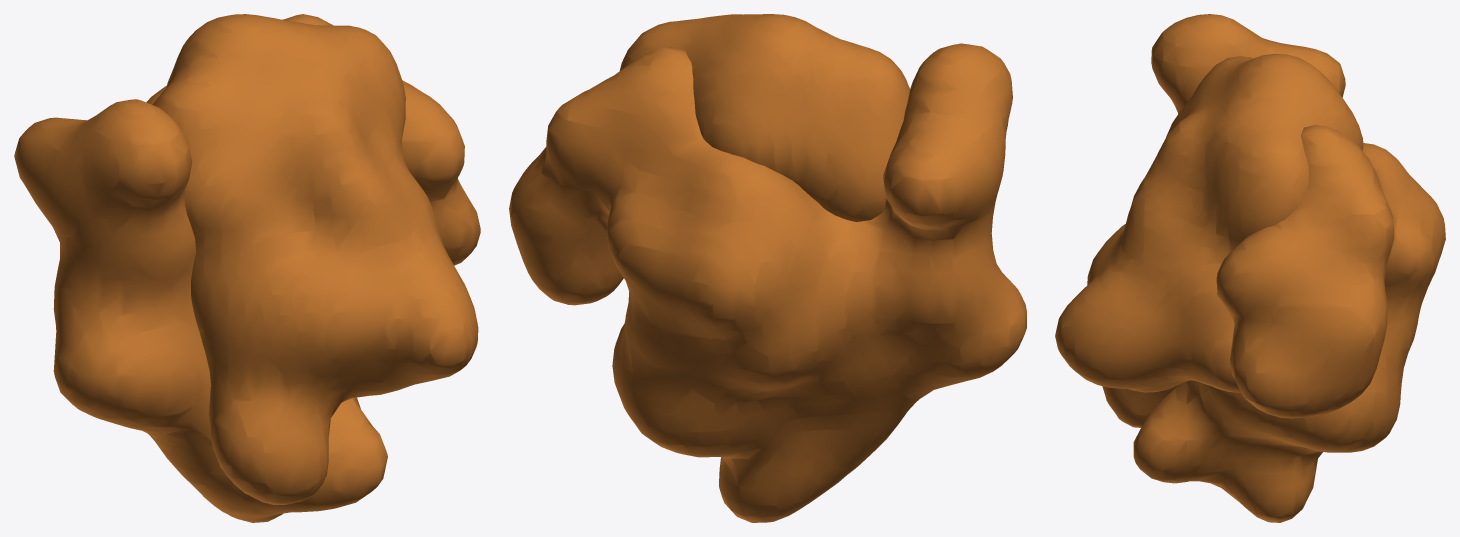
The model's file is Insulin_1.dae.
3 views of the same model, side by side, from view 1: azimuth 30°, elevation 25°; view 2: azimuth 150°, elevation 25°; view 3: azimuth 270°, elevation 25° (orthographic). The views are drawn at different scales.
Parts seen in each view (by area): view 1: CoarseMS_2hiu_Selection0, CoarseMS_2hiu_Selection1; view 2: CoarseMS_2hiu_Selection1, CoarseMS_2hiu_Selection0; view 3: CoarseMS_2hiu_Selection1, CoarseMS_2hiu_Selection0.
Boxes of the visible parts, x1,y1,x2,y2 form: CoarseMS_2hiu_Selection0: (152, 14, 478, 504); CoarseMS_2hiu_Selection1: (14, 14, 480, 522); CoarseMS_2hiu_Selection1: (509, 43, 1026, 522); CoarseMS_2hiu_Selection0: (619, 14, 910, 221); CoarseMS_2hiu_Selection1: (1133, 14, 1445, 522); CoarseMS_2hiu_Selection0: (1055, 53, 1363, 427).
Size of the model in its own units: 31.13 by 33.77 by 26.47.
